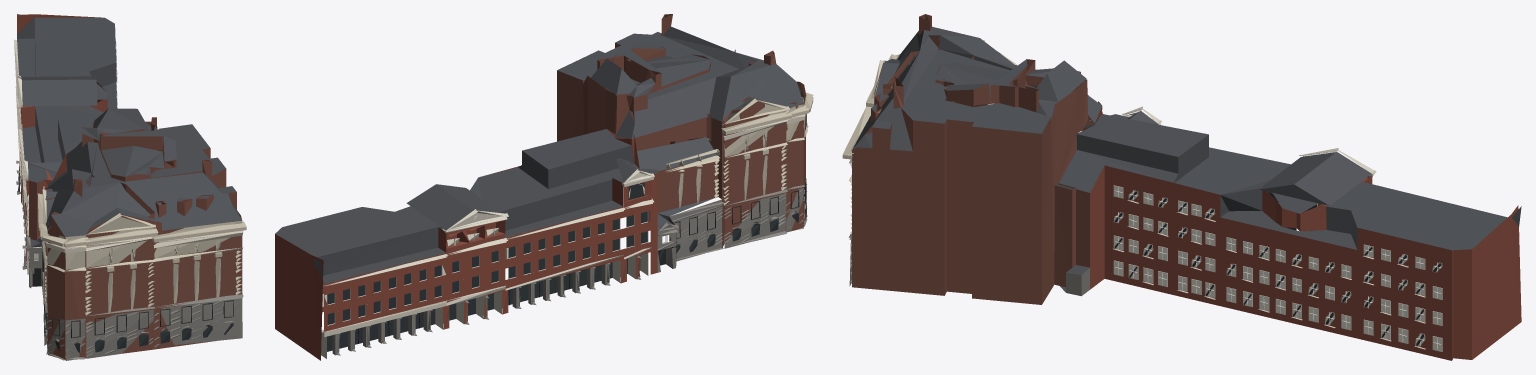
File: spiegelhof.lod1.glb
3 renders of one model, left to right at view 1: azimuth 30°, elevation 25°; view 2: azimuth 150°, elevation 25°; view 3: azimuth 270°, elevation 25°, orthographic. The views are drawn at different scales.
Parts seen in each view (by area): view 1: spiegelhof; view 2: spiegelhof; view 3: spiegelhof.
Part boxes in pixels (<box>): spiegelhof: <box>14,14,246,360</box>; spiegelhof: <box>275,14,813,360</box>; spiegelhof: <box>842,14,1521,360</box>.
Bounding box in the file's own units: 50.81 × 28.04 × 85.28.
